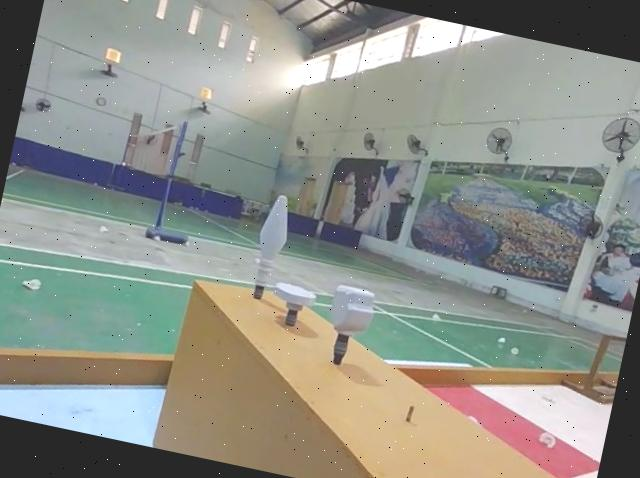Fist: (318, 279, 380, 370)
Hand: (267, 279, 316, 328)
Sph: (245, 191, 298, 306)
